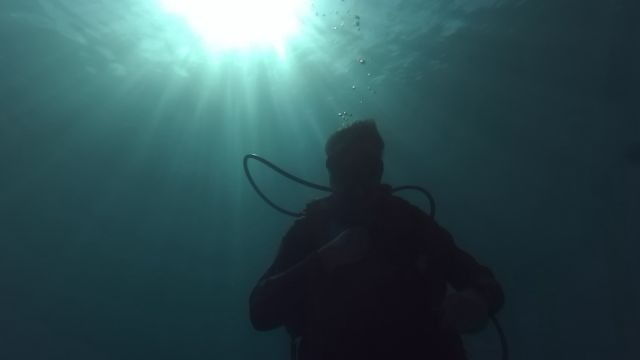Diver: (232, 117, 502, 359), (310, 121, 405, 211), (430, 279, 497, 339), (315, 225, 380, 275)
